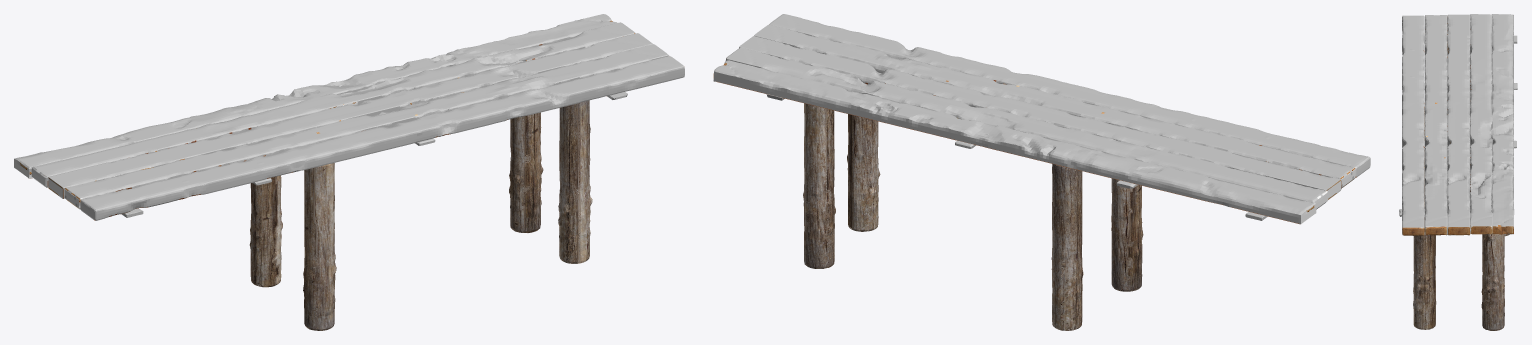
The model's file is pier 1.fbx.
The picture shows the model from 3 angles, left to right: view 1: azimuth 30°, elevation 25°; view 2: azimuth 150°, elevation 25°; view 3: azimuth 270°, elevation 25°; orthographic projection. The views are drawn at different scales.
Visible parts, largest first — view 1: Cube; view 2: Cube; view 3: Cube.
Part boxes in pixels (x1,y1,x2,y2): Cube: [14, 14, 684, 330]; Cube: [713, 14, 1370, 330]; Cube: [1399, 14, 1517, 330].
Size of the model in its own units: 4475 by 1321 by 1045.
